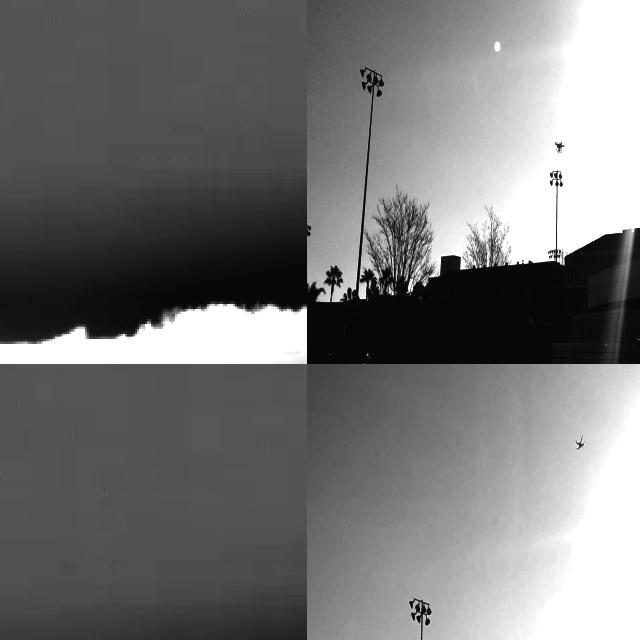drone: (550, 136, 566, 160), (574, 431, 590, 454)
